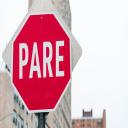Pare: (10, 10, 75, 118)
